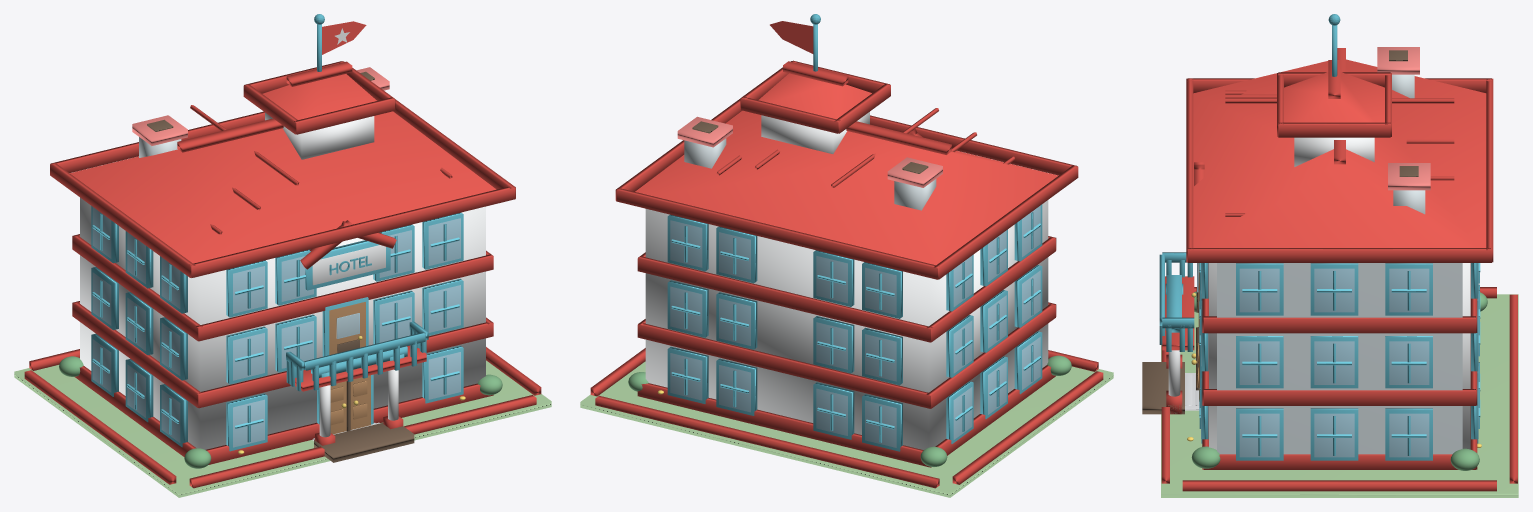
The model's file is hotelgenerico.glb.
3 views of the same model, side by side, from view 1: azimuth 30°, elevation 25°; view 2: azimuth 150°, elevation 25°; view 3: azimuth 270°, elevation 25° (orthographic). The views are drawn at different scales.
Visible parts, largest first — view 1: Hotel_Techo_Principal, Hotel_Cuerpo_Principal, Hotel_Grama_Base, Hotel_Techo_Principal_Fascia_Frontal, Hotel_Zocalo_Frontal_Nivel_3, Hotel_Torre_Central_Techo, Hotel_Zocalo_Frontal_Nivel_1, Hotel_Zocalo_Frontal_Nivel_2, Hotel_Techo_Principal_Fascia_Izquierda, Hotel_Torre_Central_Pared, Hotel_Entrada_Escalon, Hotel_Zocalo_Izquierdo_Nivel_3 (+57 smaller); view 2: Hotel_Techo_Principal, Hotel_Cuerpo_Principal, Hotel_Grama_Base, Hotel_Zocalo_Trasero_Nivel_3, Hotel_Zocalo_Trasero_Nivel_2, Hotel_Techo_Principal_Fascia_Trasera, Hotel_Borde_Base_Trasero, Hotel_Zocalo_Trasero_Nivel_1, Hotel_Torre_Central_Techo, Hotel_Techo_Principal_Fascia_Izquierda, Hotel_Techo_Principal_Fascia_Frontal, Hotel_Zocalo_Izquierdo_Nivel_3 (+54 smaller); view 3: Hotel_Techo_Principal, Hotel_Pared_Lateral_Azulada, Hotel_Grama_Base, Hotel_Zocalo_Derecho_Nivel_3, Hotel_Techo_Principal_Fascia_Derecha, Hotel_Zocalo_Derecho_Nivel_2, Hotel_Torre_Central_Techo, Hotel_Borde_Base_Lateral_Derecho, Hotel_Zocalo_Derecho_Nivel_1, Hotel_Cuerpo_Principal, Hotel_Torre_Central_Techo_Fascia_Derecha, Hotel_Borde_Base_Trasero (+38 smaller).
Part boxes in pixels (box(x1,y1,x2,y2)): Hotel_Techo_Principal: box(70, 111, 496, 263); Hotel_Cuerpo_Principal: box(80, 197, 485, 449); Hotel_Grama_Base: box(14, 360, 551, 497); Hotel_Techo_Principal_Fascia_Frontal: box(189, 187, 515, 277); Hotel_Zocalo_Frontal_Nivel_3: box(196, 254, 493, 341); Hotel_Torre_Central_Techo: box(262, 74, 376, 119); Hotel_Zocalo_Frontal_Nivel_1: box(206, 383, 493, 464); Hotel_Zocalo_Frontal_Nivel_2: box(197, 321, 493, 408); Hotel_Techo_Principal_Fascia_Izquierda: box(50, 163, 195, 277); Hotel_Torre_Central_Pared: box(265, 112, 374, 159); Hotel_Entrada_Escalon: box(314, 423, 414, 462); Hotel_Zocalo_Izquierdo_Nivel_3: box(72, 235, 202, 340); Hotel_Techo_Principal: box(635, 110, 1058, 265); Hotel_Cuerpo_Principal: box(645, 200, 1048, 449); Hotel_Grama_Base: box(580, 361, 1113, 497); Hotel_Zocalo_Trasero_Nivel_3: box(637, 256, 932, 342); Hotel_Zocalo_Trasero_Nivel_2: box(637, 323, 930, 408); Hotel_Techo_Principal_Fascia_Trasera: box(616, 188, 937, 279); Hotel_Borde_Base_Trasero: box(595, 395, 939, 488); Hotel_Zocalo_Trasero_Nivel_1: box(637, 383, 930, 467); Hotel_Torre_Central_Techo: box(758, 73, 871, 119); Hotel_Techo_Principal_Fascia_Izquierda: box(934, 165, 1078, 279); Hotel_Techo_Principal_Fascia_Frontal: box(870, 115, 1077, 175); Hotel_Zocalo_Izquierdo_Nivel_3: box(927, 237, 1055, 342); Hotel_Techo_Principal: box(1193, 59, 1486, 247); Hotel_Pared_Lateral_Azulada: box(1217, 263, 1462, 454); Hotel_Grama_Base: box(1161, 294, 1518, 497); Hotel_Zocalo_Derecho_Nivel_3: box(1203, 316, 1475, 333); Hotel_Techo_Principal_Fascia_Derecha: box(1187, 248, 1491, 262); Hotel_Zocalo_Derecho_Nivel_2: box(1203, 389, 1475, 405); Hotel_Torre_Central_Techo: box(1284, 72, 1384, 122); Hotel_Borde_Base_Lateral_Derecho: box(1182, 480, 1496, 491); Hotel_Zocalo_Derecho_Nivel_1: box(1203, 454, 1475, 469); Hotel_Cuerpo_Principal: box(1209, 263, 1470, 449); Hotel_Torre_Central_Techo_Fascia_Derecha: box(1278, 122, 1390, 137); Hotel_Borde_Base_Trasero: box(1509, 294, 1517, 483).
Bounding box in the file's own units: 1.75 × 1.67 × 1.41.
